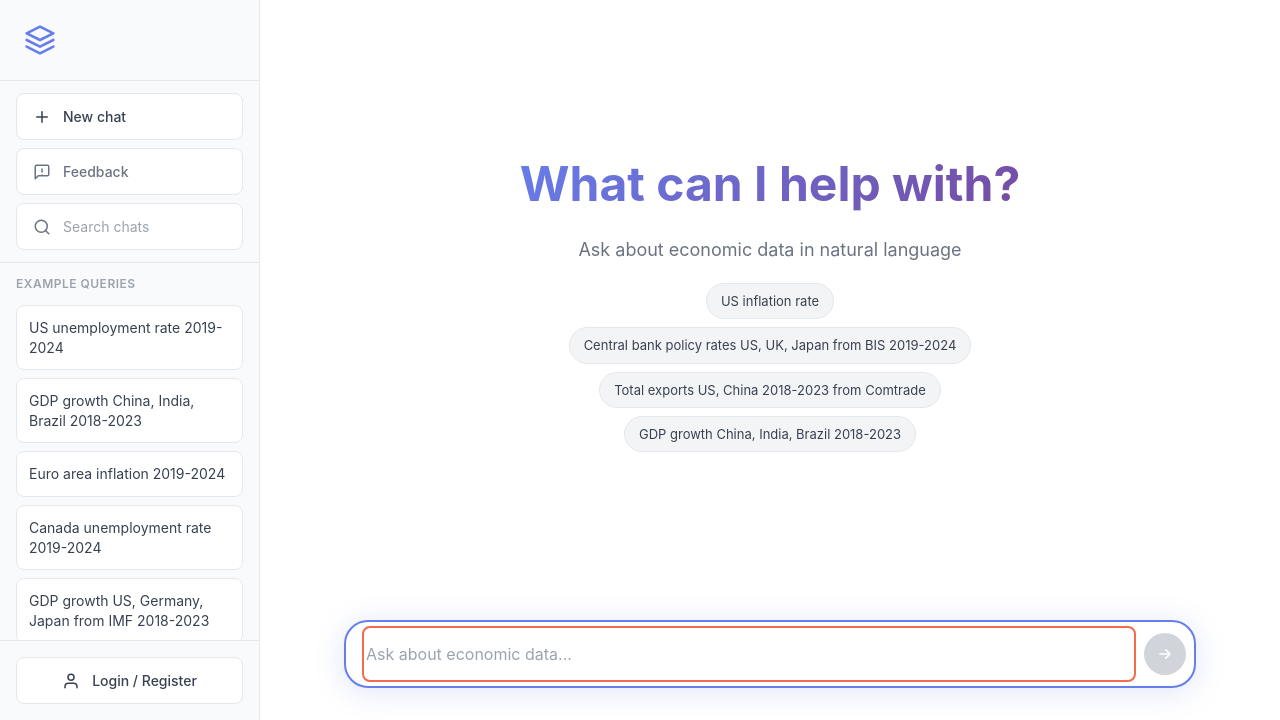
ChatPage › query submission › adds user message when form is submitted
Type "Show me US GDP" into the field with placeholder "Ask about economic data...". click: [749, 654]
box: [366,630,1132,678]
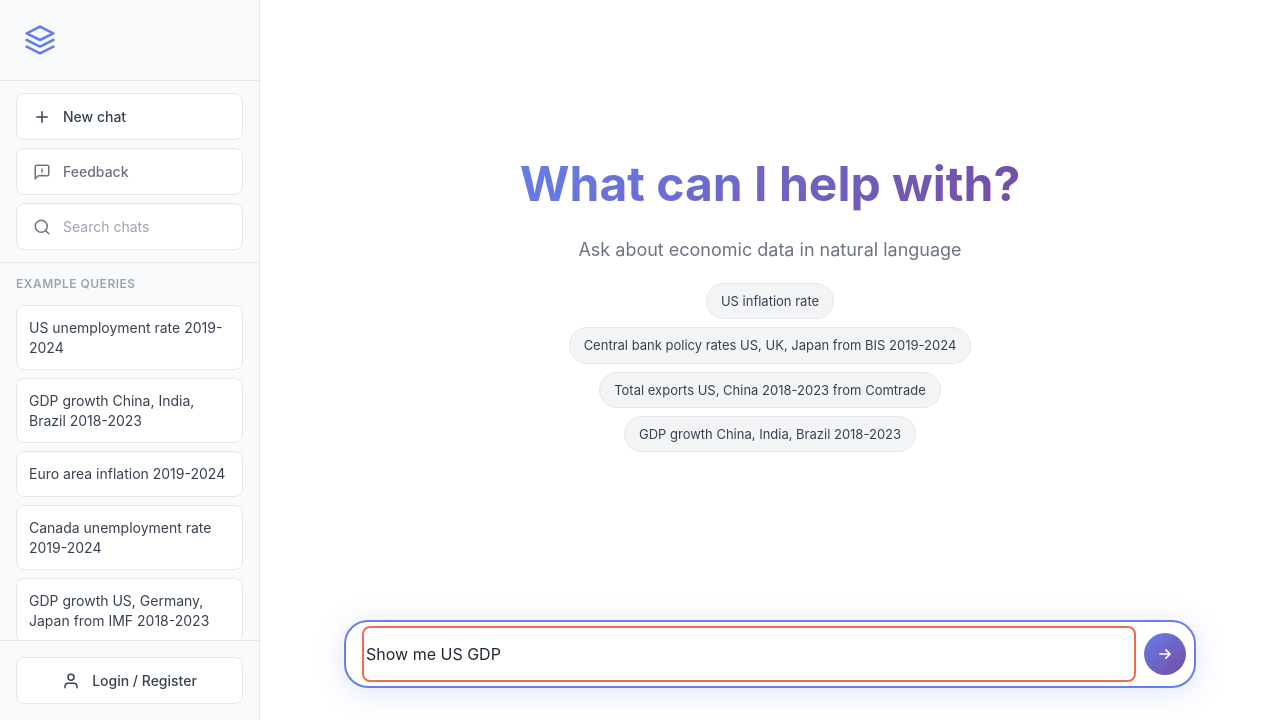
Submit the form with placeholder "Ask about economic data", box [344,620,1196,688]
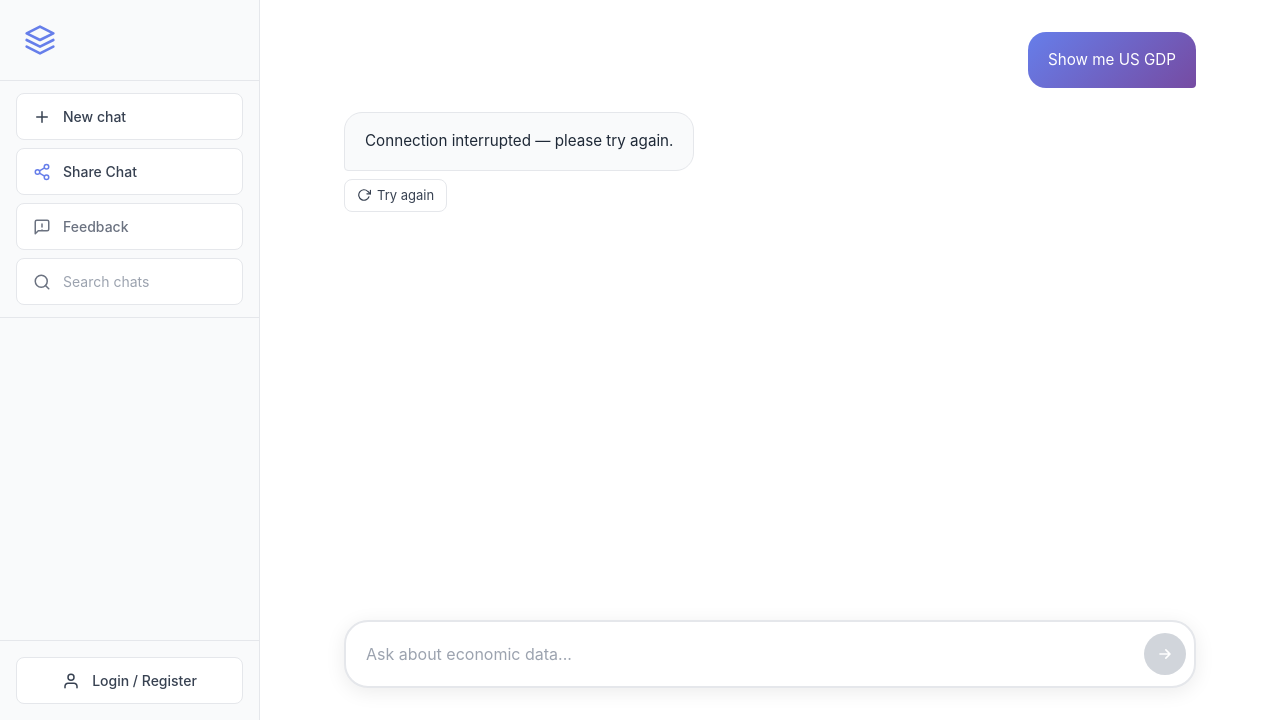
expect the text "Show me US GDP" is shown: met, box [1028,32,1196,88]
